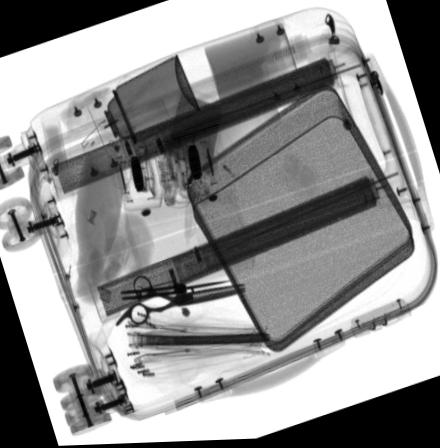Powerbank: (161, 85, 225, 199)
Scissors: (114, 275, 245, 329)
Sprayer: (86, 54, 201, 160)
